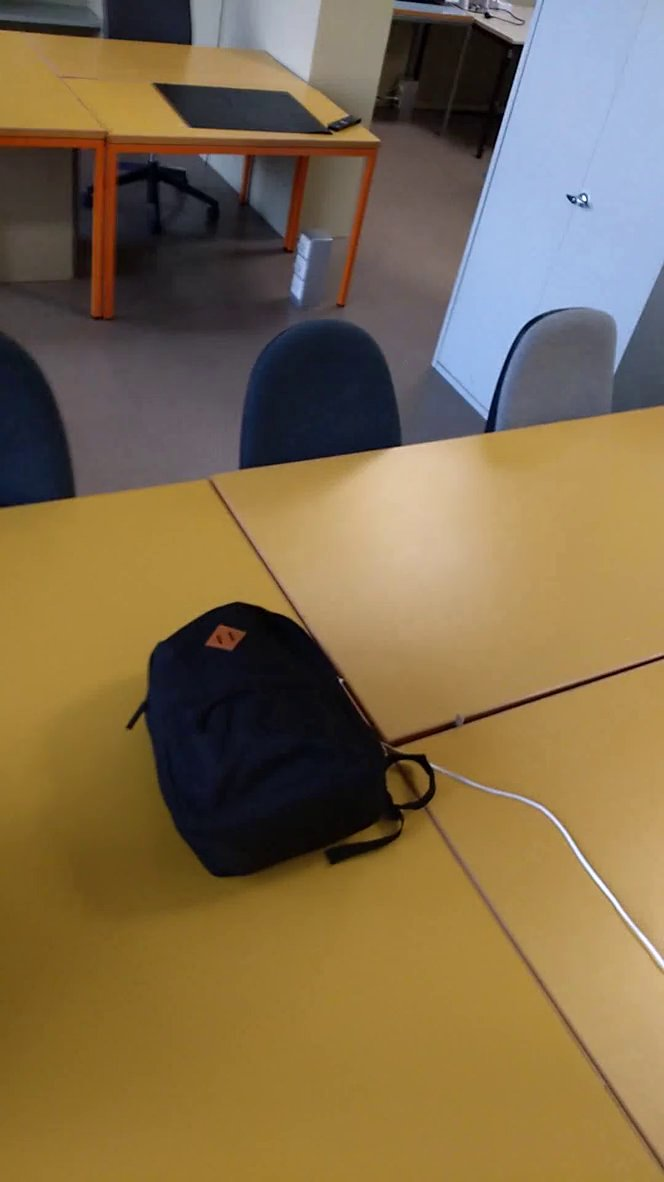bag: (103, 590, 454, 887)
chair: (232, 312, 419, 500), (471, 301, 637, 445)
